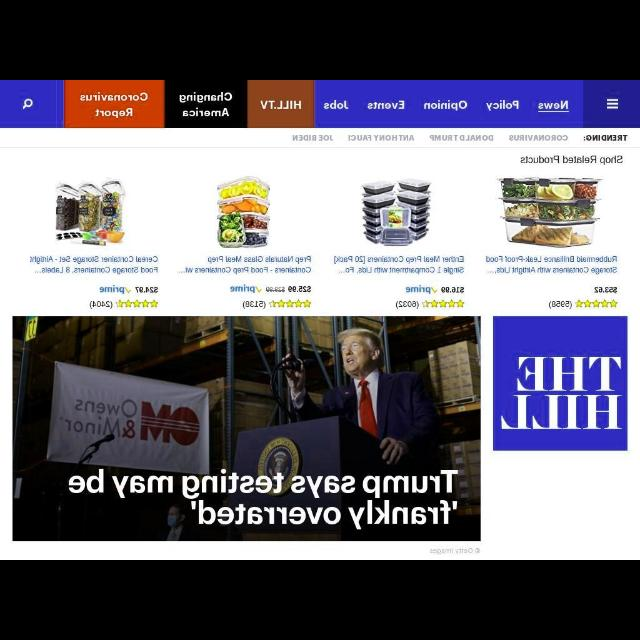icon: (604, 97, 622, 111), (22, 95, 34, 112)
image: (12, 316, 480, 542), (493, 316, 627, 449), (496, 173, 606, 250), (352, 172, 438, 248), (51, 178, 129, 250), (211, 174, 277, 252), (420, 298, 464, 308), (266, 298, 310, 308), (575, 298, 617, 308), (116, 298, 156, 308), (100, 285, 130, 295), (231, 284, 261, 294), (402, 286, 438, 294)
link: (329, 252, 465, 276), (177, 253, 311, 275), (27, 253, 159, 275), (486, 254, 618, 276)
multitab: (1, 130, 639, 146)
text: (76, 89, 150, 119), (178, 90, 232, 118), (518, 154, 624, 166), (257, 96, 303, 110), (424, 98, 468, 112), (367, 98, 407, 112), (346, 134, 414, 142), (430, 134, 492, 142), (508, 134, 568, 142), (485, 98, 519, 112), (538, 98, 572, 112), (582, 132, 628, 142), (429, 548, 481, 556), (288, 133, 334, 141), (323, 99, 351, 111), (134, 284, 158, 296), (548, 298, 572, 310), (592, 284, 618, 294), (440, 285, 464, 295), (394, 300, 418, 310), (241, 300, 265, 308), (88, 300, 112, 308), (266, 285, 284, 295), (290, 286, 310, 292)
toolbar: (1, 81, 638, 127)
